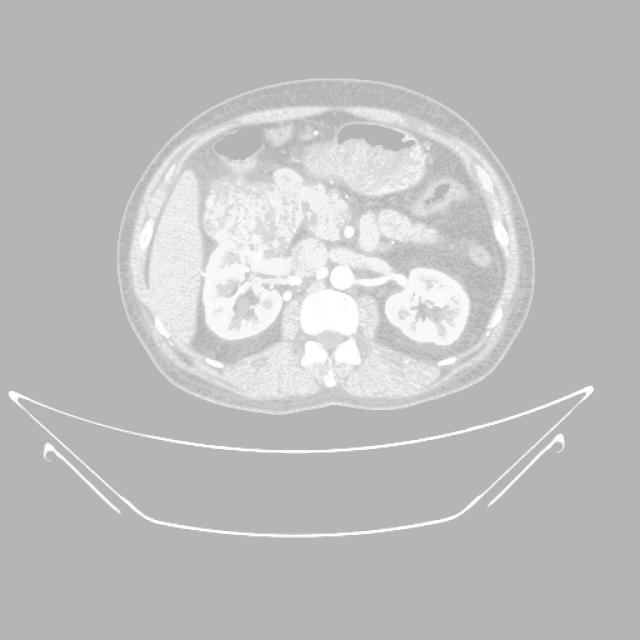TUMOR: (125, 163, 537, 333)
